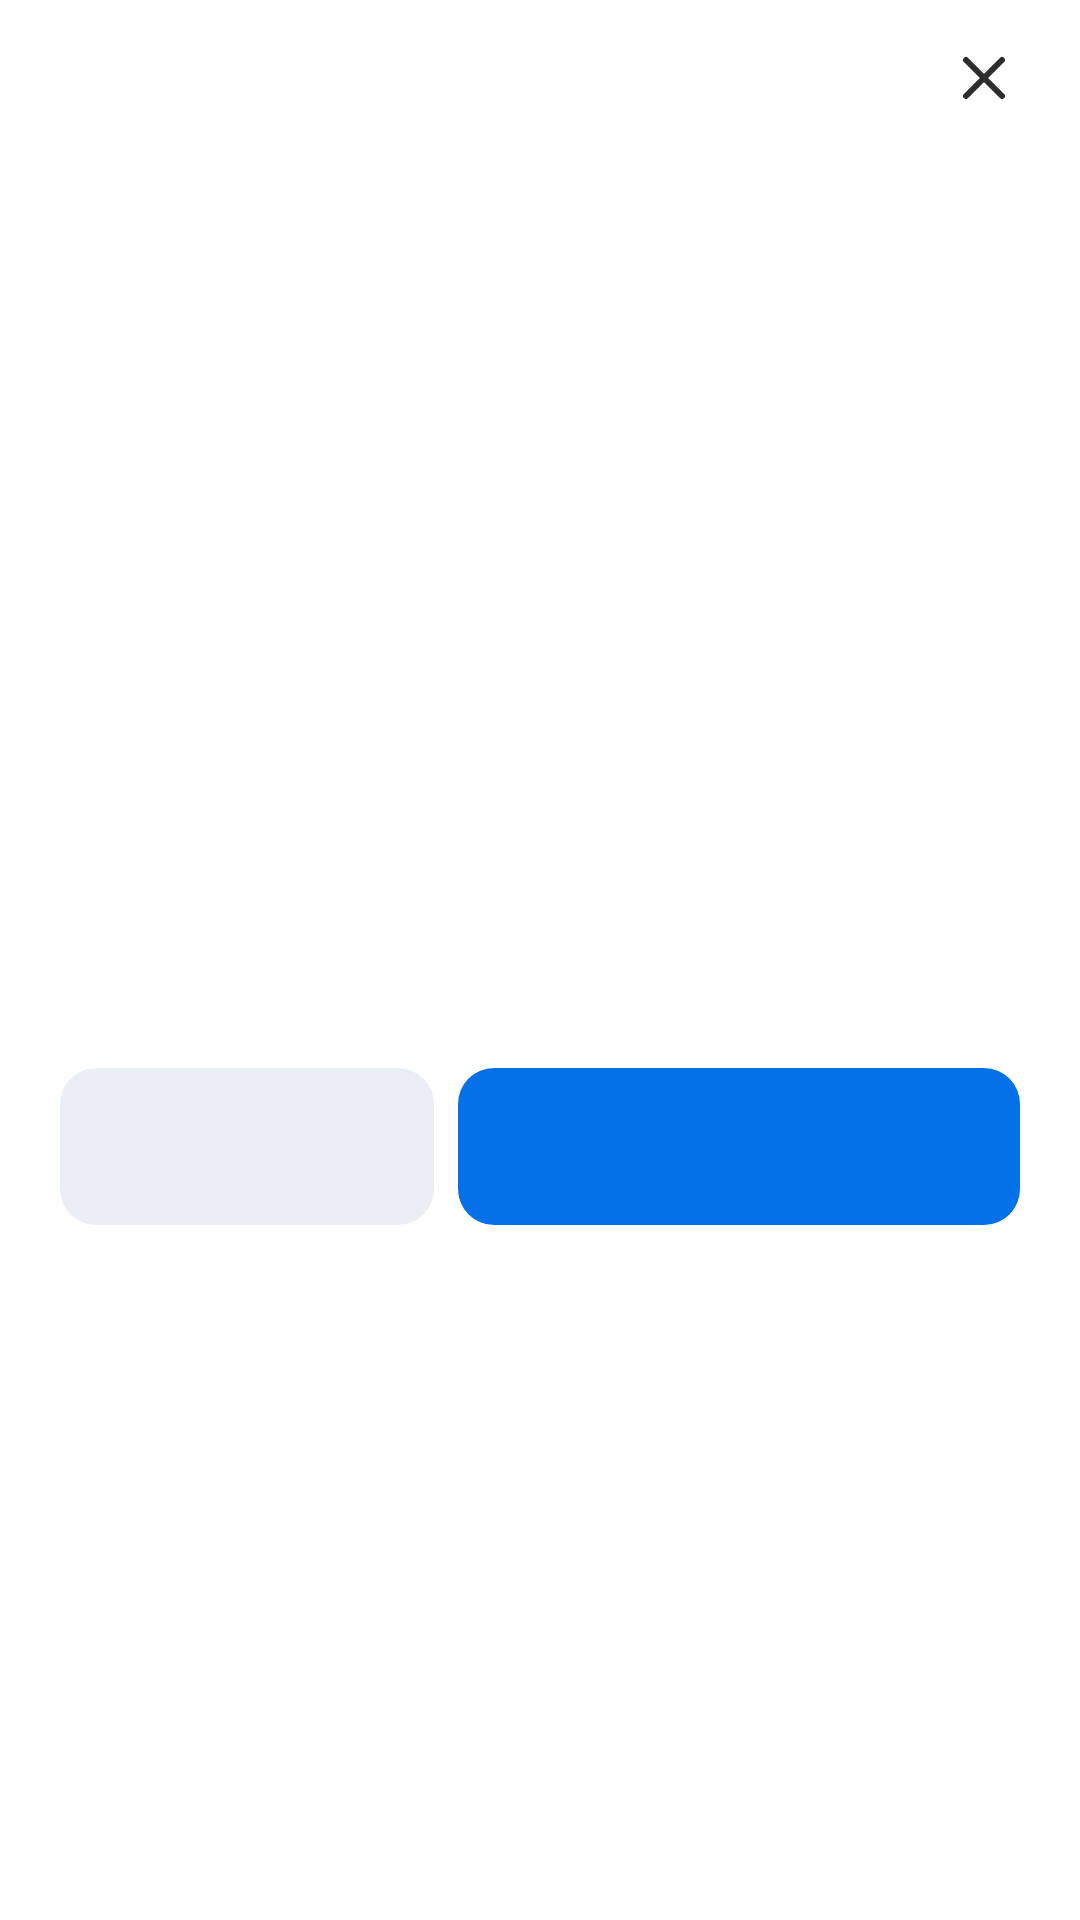

Icon bounding boxes for this 1080w x 1920h phone screenshot, format (x1, y1, x2, y2):
close medium: (963, 56, 1005, 99)
